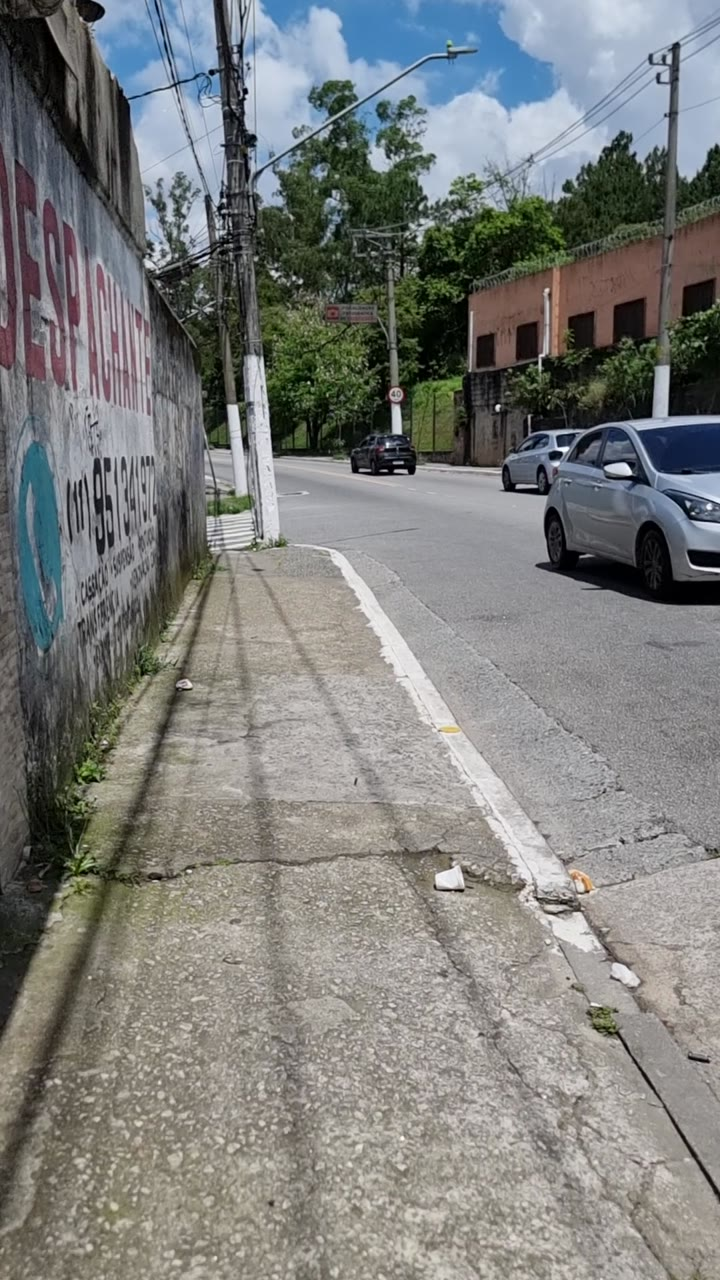obstaculo: (216, 0, 274, 550)
